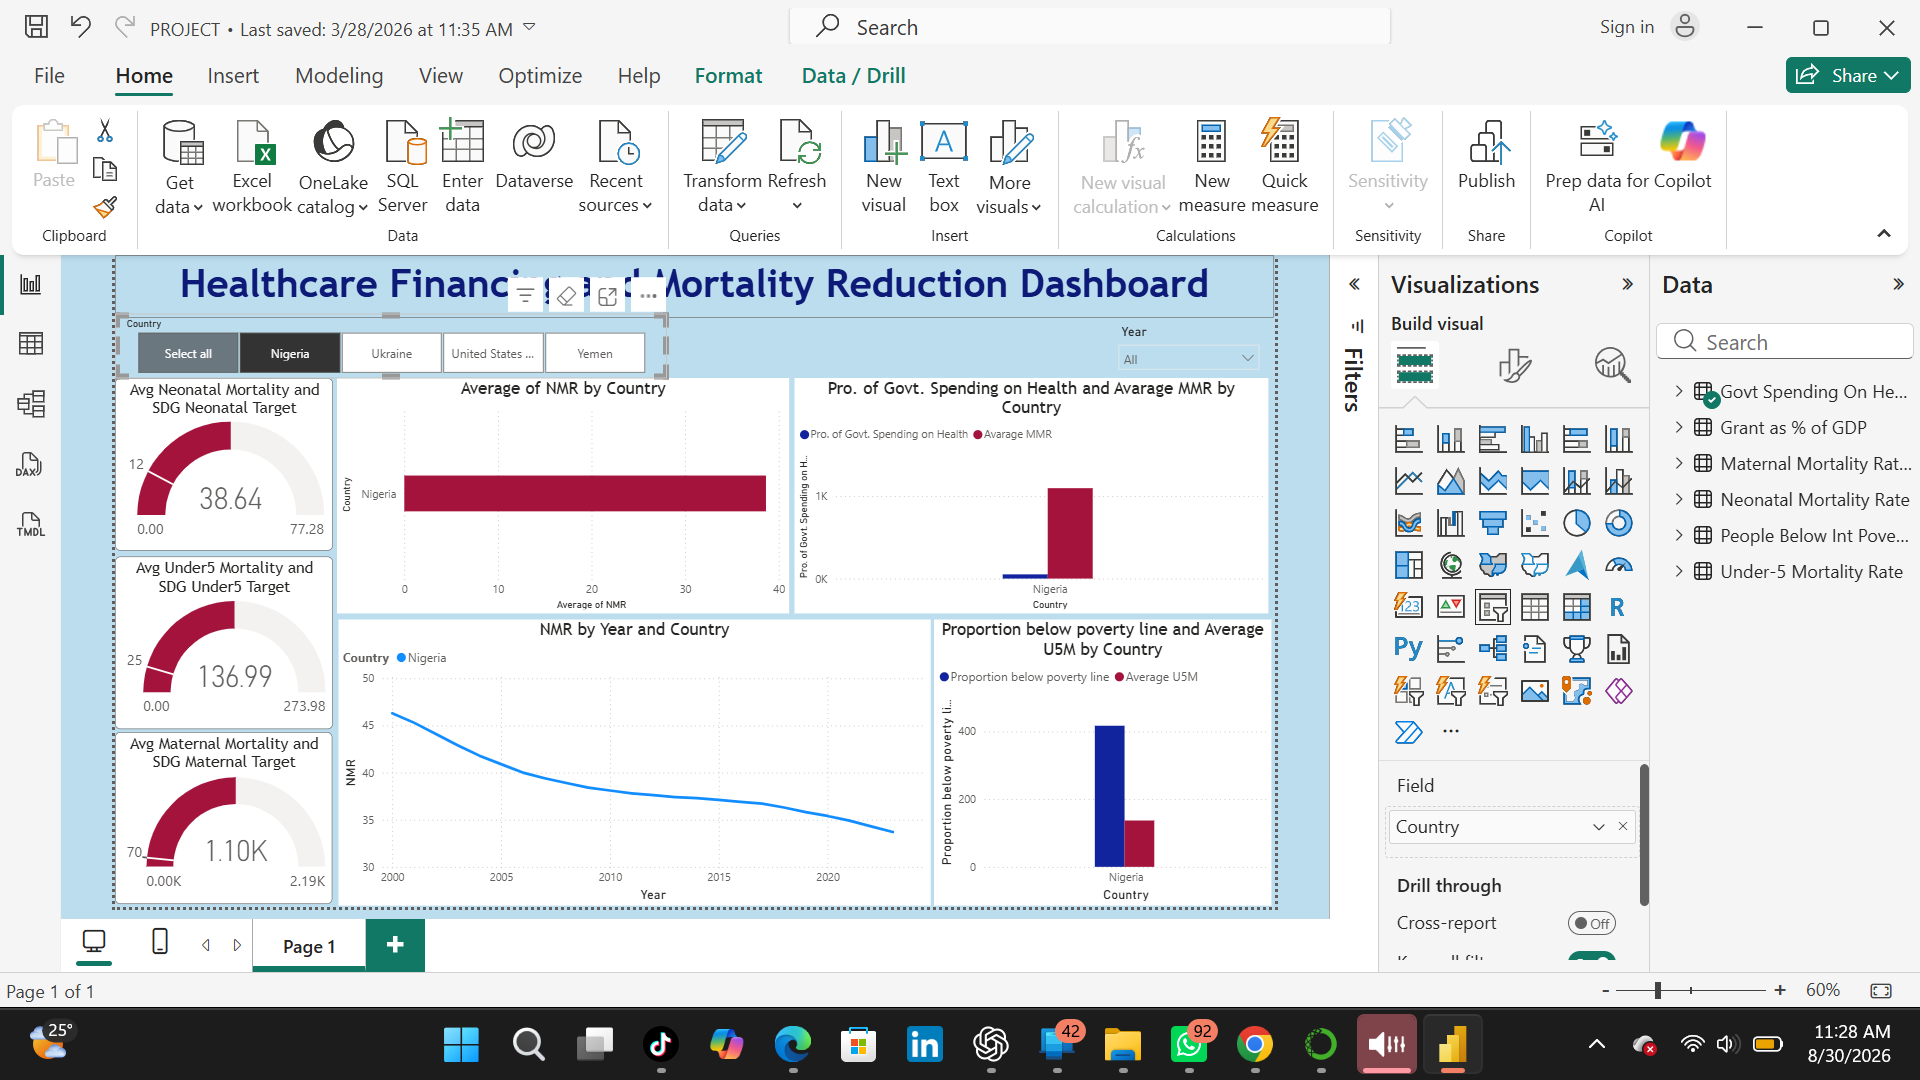

The dashboard page shown, as its layout file describes it:
{"tool":"powerbi","page":{"name":"Page 1","canvas":[1280,720],"ordinal":0},"visuals":[{"type":"lineChart","fields":{"Category":["Neonatal Mortality Rate.Year"],"Series":["Neonatal Mortality Rate.Country"],"Y":["Avg(Neonatal Mortality Rate.Value)"]},"box":[246.3,402.1,653.9,315.8],"z":0},{"type":"clusteredBarChart","fields":{"Category":["Neonatal Mortality Rate.Country"],"Y":["Avg(Neonatal Mortality Rate.Value)"]},"box":[244.9,136.3,499.5,260.2],"z":1000},{"type":"clusteredColumnChart","fields":{"Category":["Under-5 Mortality Rate.Country"],"Y":["Sum(People Below Int Poverty Line.Value)","Avg(Under-5 Mortality Rate.Value)"]},"box":[904.3,402.1,372.9,315.8],"z":2000},{"type":"clusteredColumnChart","fields":{"Category":["Maternal Mortality Ratio.Country"],"Y":["Sum(Govt  Spending On Health Servic.Value)","Avg(Maternal Mortality Ratio.Value)"]},"box":[749.9,136.3,523.1,260.2],"z":3000},{"type":"gauge","fields":{"TargetValue":["Govt  Spending On Health Servic.SDG Neonatal Target"],"Y":["Govt  Spending On Health Servic.Avg Neonatal Mortality"]},"box":[0,136.3,240.7,190.6],"z":4000},{"type":"gauge","fields":{"TargetValue":["Govt  Spending On Health Servic.SDG Maternal Target"],"Y":["Govt  Spending On Health Servic.Avg Maternal Mortality"]},"box":[0,527.3,240,190],"z":5000},{"type":"gauge","fields":{"TargetValue":["Govt  Spending On Health Servic.SDG Under5 Target"],"Y":["Govt  Spending On Health Servic.Avg Under5 Mortality"]},"box":[0,332.5,240.7,190.6],"z":6000},{"type":"textbox","box":[0,0,1280,69.6],"z":7000},{"type":"slicer","fields":{"Values":["Govt  Spending On Health Servic.Country"]},"box":[0,64,609.4,72.3],"z":8000},{"type":"slicer","fields":{"Values":["Neonatal Mortality Rate.Year"]},"box":[1097.7,71,175.3,65.4],"z":9000}]}

Visuals, with their boxes on the page's 1280x720 design canvas (x1, y1, x2, y2). These are canvas units, not pixel positions in the 1920x1080 screenshot, which may show the page scaled, cropped or inside an application window:
lineChart - Neonatal Mortality Rate.Year x Neonatal Mortality Rate.Country: crop(246, 402, 900, 718)
clusteredBarChart - Neonatal Mortality Rate.Country x Avg(Neonatal Mortality Rate.Value): crop(245, 136, 744, 396)
clusteredColumnChart - Under-5 Mortality Rate.Country x Sum(People Below Int Poverty Line.Value): crop(904, 402, 1277, 718)
clusteredColumnChart - Maternal Mortality Ratio.Country x Sum(Govt  Spending On Health Servic.Value): crop(750, 136, 1273, 396)
gauge - Govt  Spending On Health Servic.SDG Neonatal Target x Govt  Spending On Health Servic.Avg Neonatal Mortality: crop(0, 136, 241, 327)
gauge - Govt  Spending On Health Servic.SDG Maternal Target x Govt  Spending On Health Servic.Avg Maternal Mortality: crop(0, 527, 240, 717)
gauge - Govt  Spending On Health Servic.SDG Under5 Target x Govt  Spending On Health Servic.Avg Under5 Mortality: crop(0, 332, 241, 523)
textbox: crop(0, 0, 1280, 70)
slicer - Govt  Spending On Health Servic.Country: crop(0, 64, 609, 136)
slicer - Neonatal Mortality Rate.Year: crop(1098, 71, 1273, 136)
